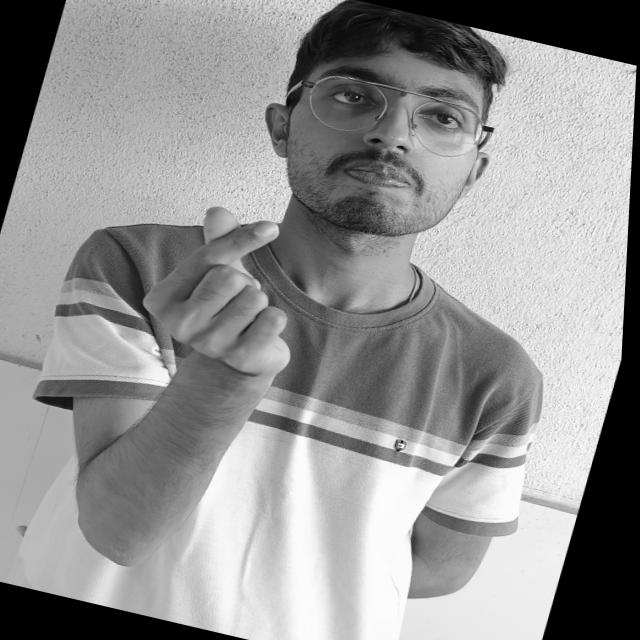Grattitude: (85, 163, 408, 426)
